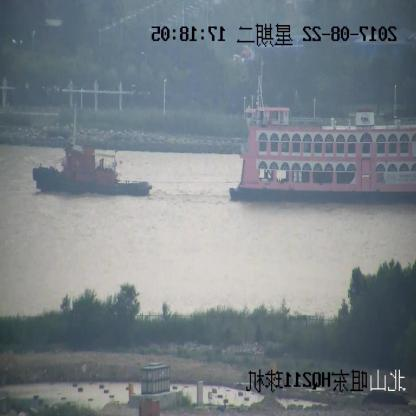Fishing Boat: (32, 104, 152, 195)
